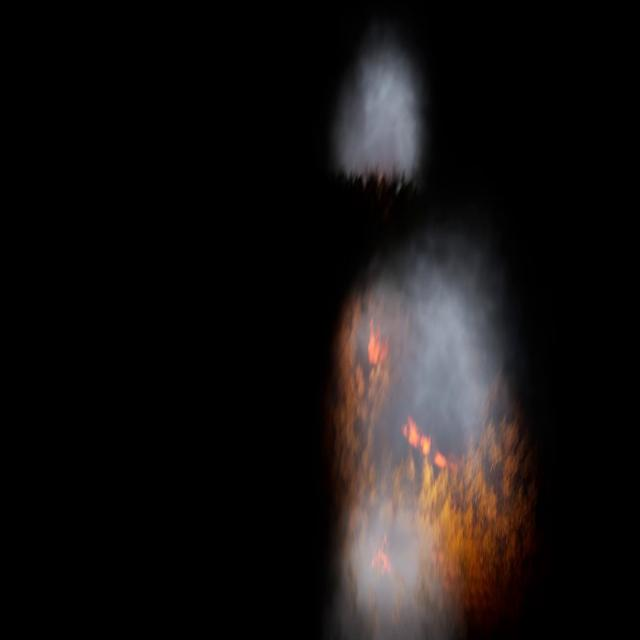fire: (395, 414, 526, 611), (365, 319, 389, 366), (368, 534, 393, 574)
smoke: (326, 234, 532, 639), (334, 31, 428, 185)
